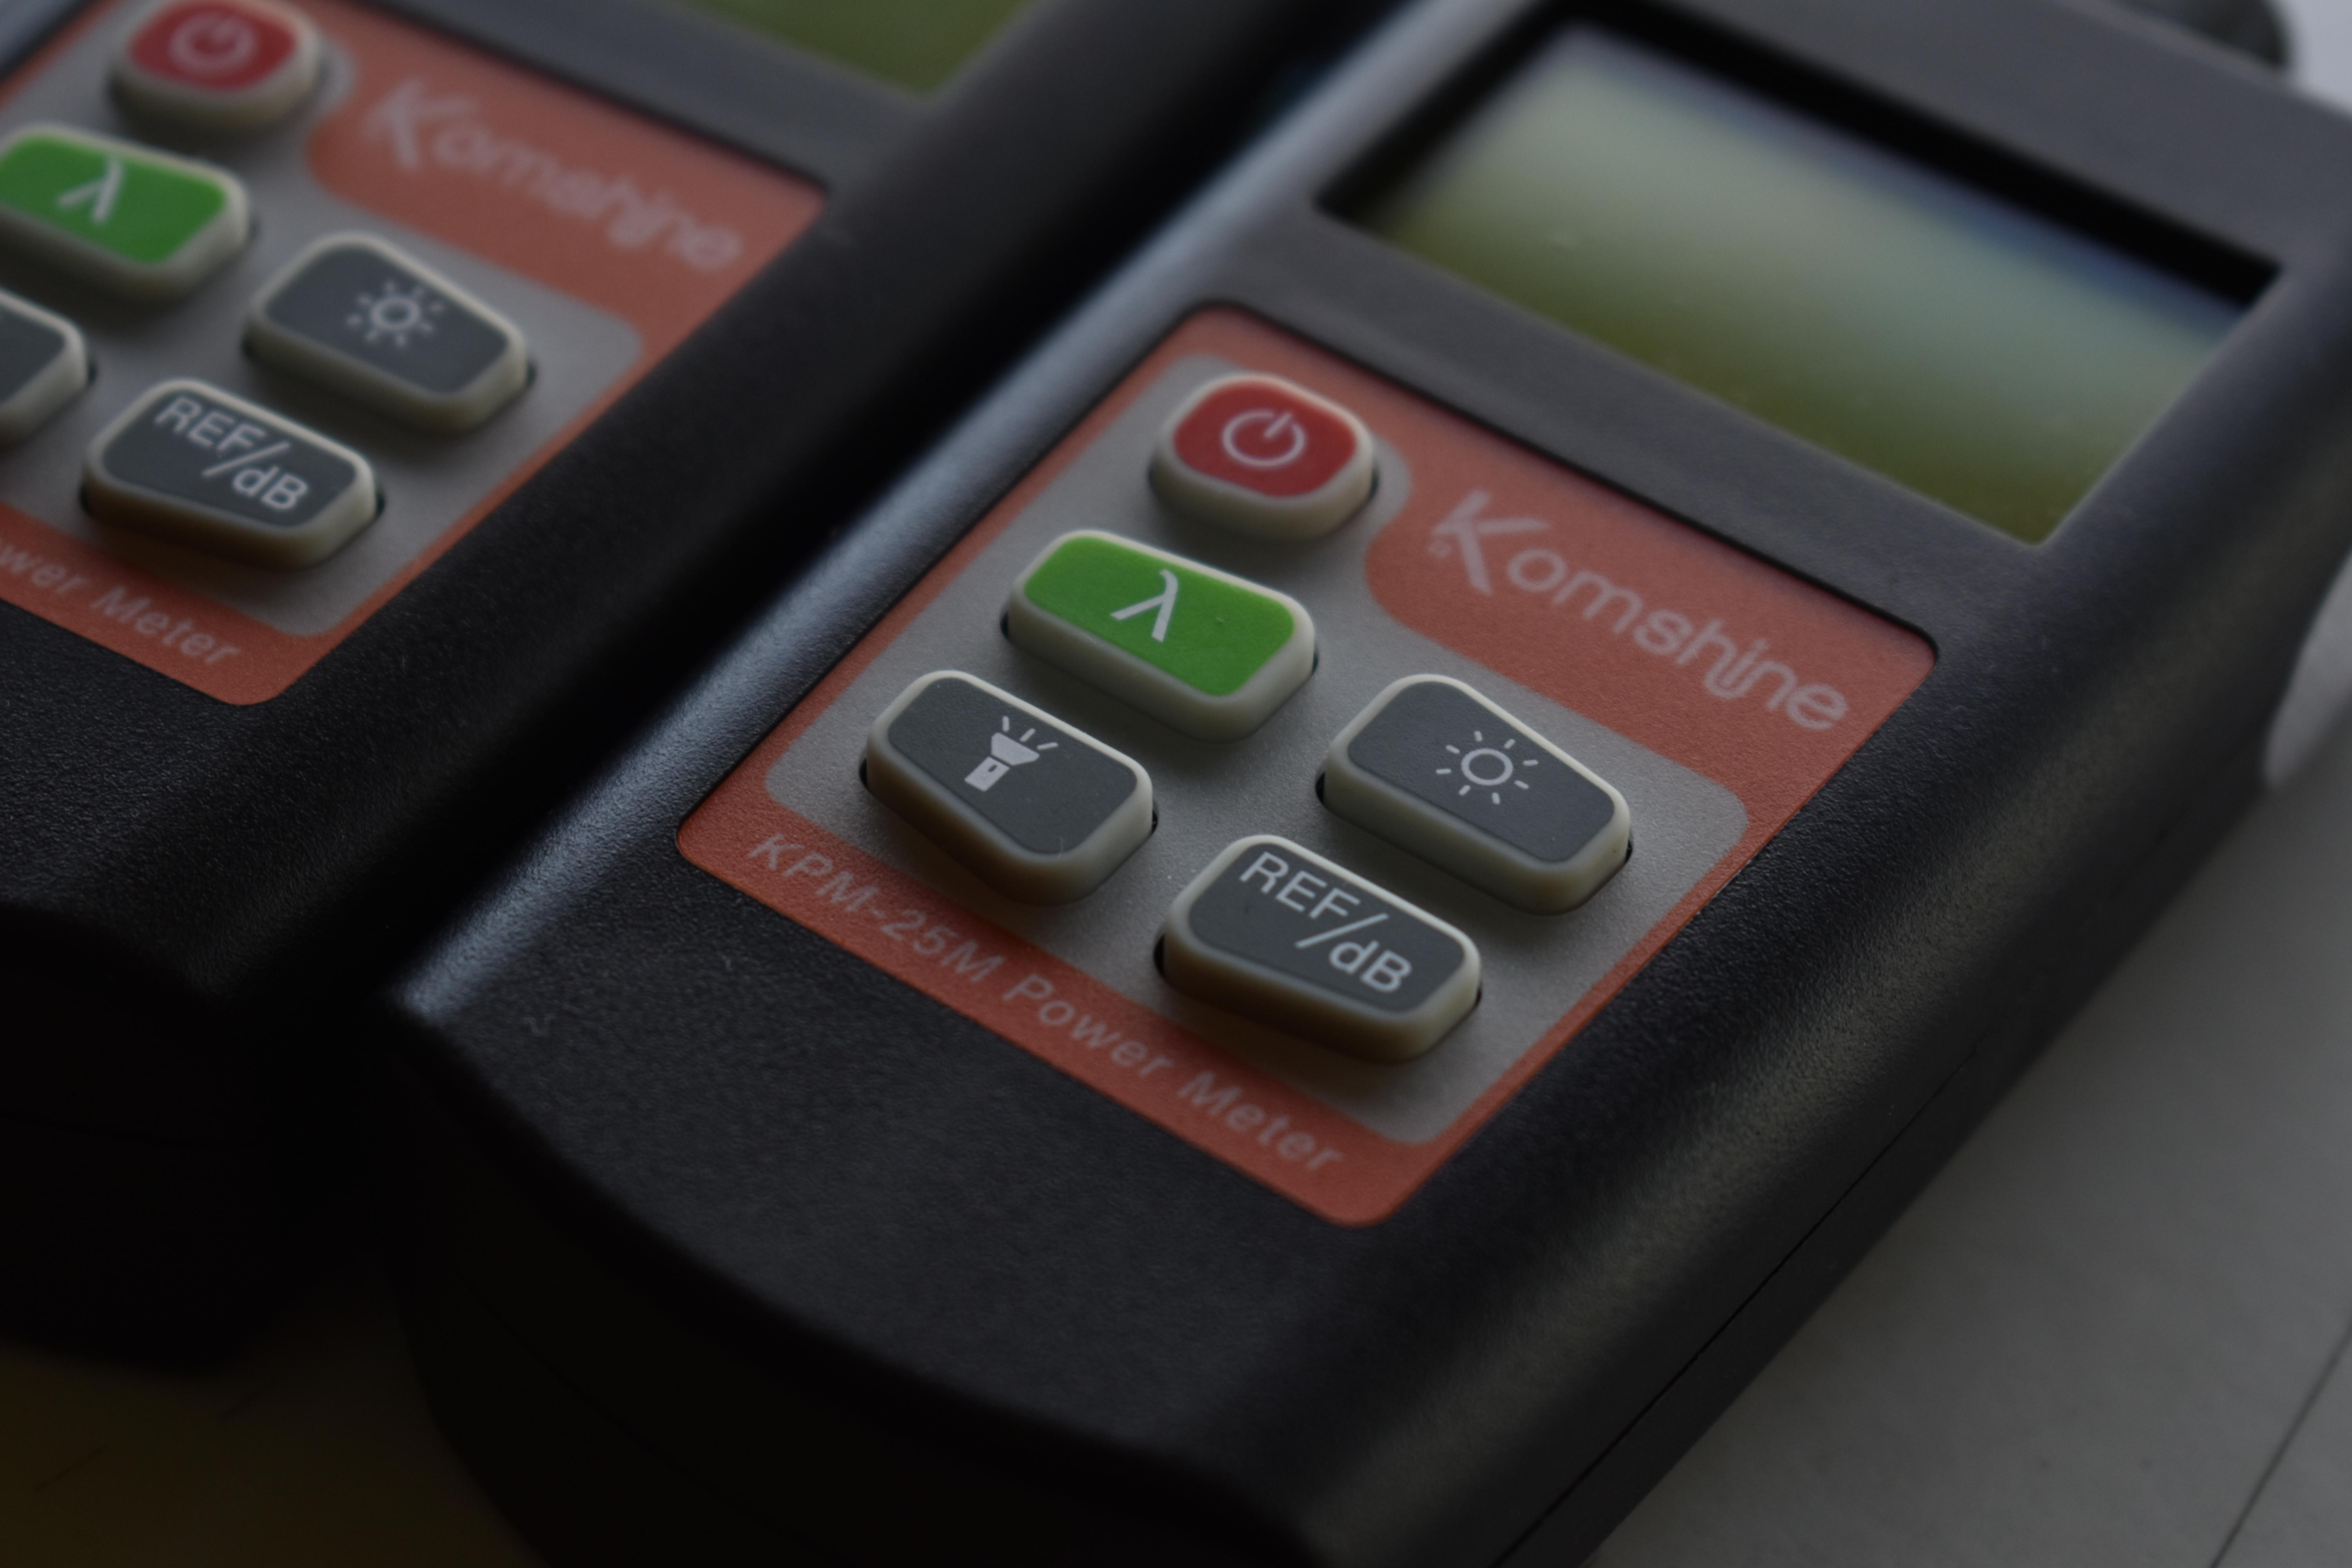powermeter: (229, 0, 2352, 1568)
